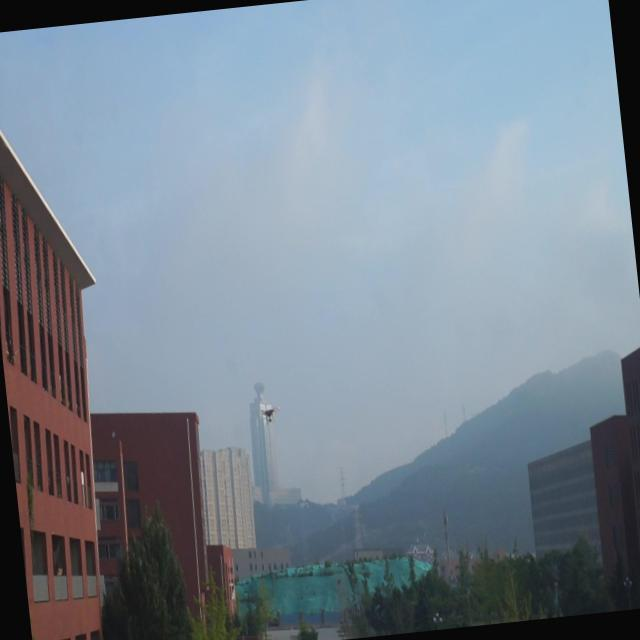drone: (256, 398, 280, 427)
